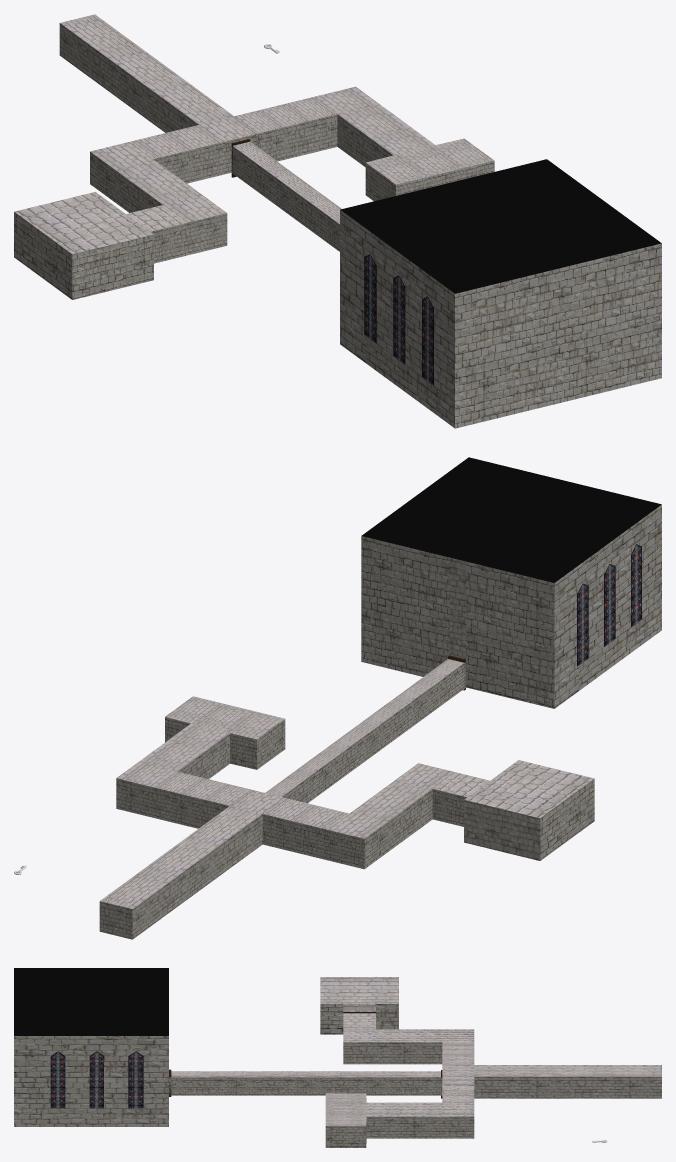
Rendered from Map.FBX.
3 views of the same model, one above another, from view 1: azimuth 30°, elevation 25°; view 2: azimuth 150°, elevation 25°; view 3: azimuth 270°, elevation 25° (orthographic). The views are drawn at different scales.
Parts seen in each view (by area): view 1: Ceiling, BossWalls, Walls, Windows; view 2: Ceiling, BossWalls, Walls, Windows; view 3: Ceiling, Walls, BossWalls, Windows.
Boxes of the visible parts, box(x1,y1,x2,y2) form: Ceiling: box(14, 14, 661, 293); BossWalls: box(340, 210, 661, 428); Walls: box(14, 23, 494, 299); Windows: box(364, 254, 433, 385); Ceiling: box(100, 457, 661, 908); BossWalls: box(361, 504, 661, 708); Walls: box(99, 662, 594, 939); Windows: box(577, 544, 641, 666); Ceiling: box(14, 968, 661, 1125); Walls: box(169, 1004, 661, 1147); BossWalls: box(14, 1036, 170, 1126); Windows: box(50, 1051, 143, 1108).
Size of the model in its own units: 2471 by 770 by 4831.
